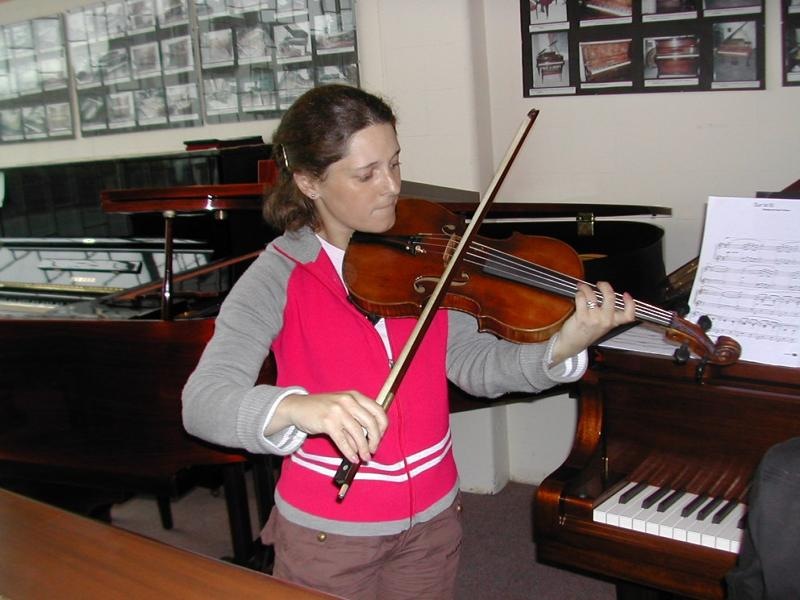person: (180, 87, 644, 600)
